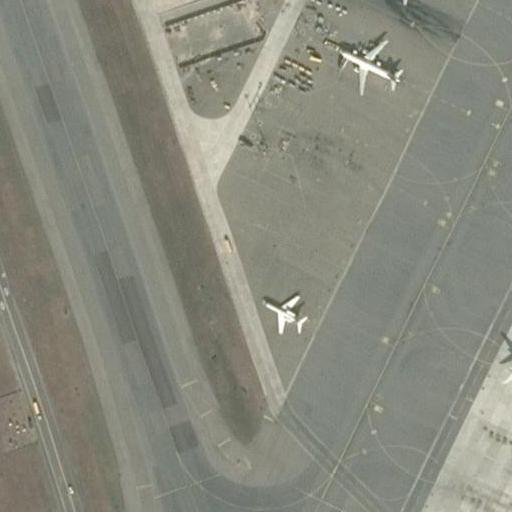Aircraft: (335, 31, 408, 100), (257, 287, 317, 340), (493, 323, 512, 431), (373, 0, 457, 6)
